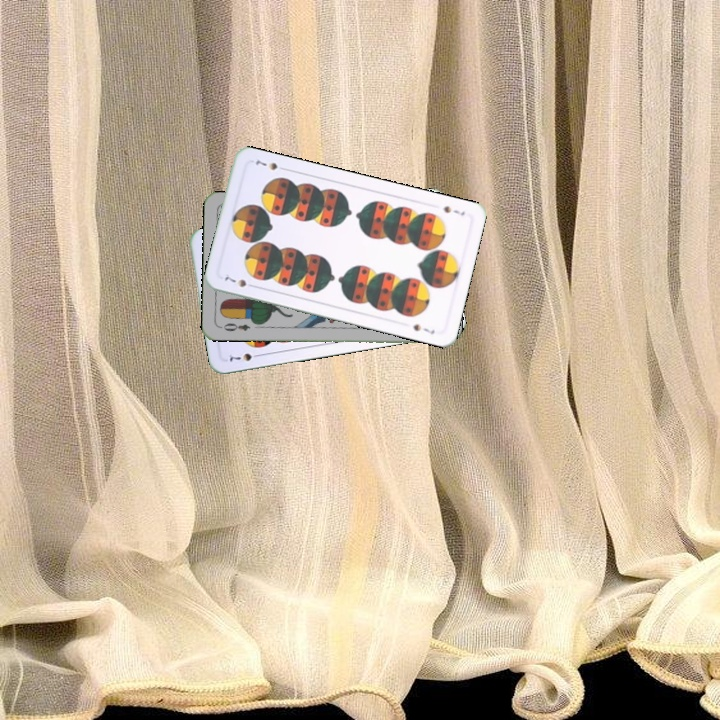EO: (216, 319, 252, 334)
S7: (221, 272, 258, 290), (225, 349, 264, 364), (440, 202, 467, 218)
